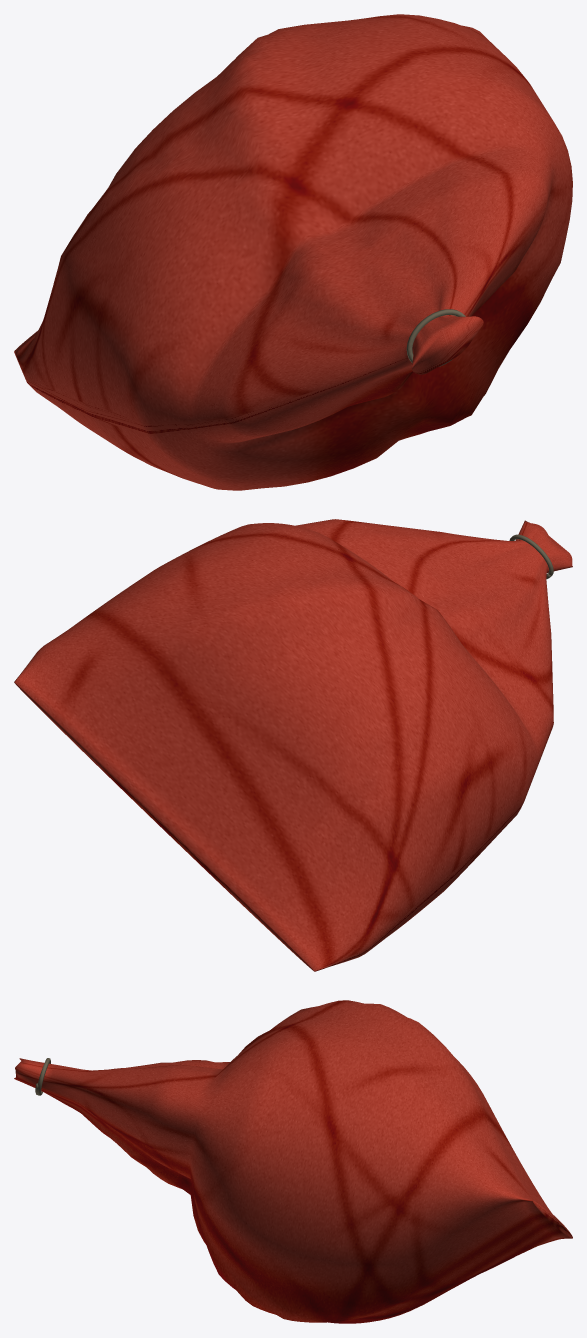
File: peach_01_019.glb
3 views of the same model, one above another, from view 1: azimuth 30°, elevation 25°; view 2: azimuth 150°, elevation 25°; view 3: azimuth 270°, elevation 25° (orthographic). The views are drawn at different scales.
Parts seen in each view (by area): view 1: export_Tree01/shoot0_8_1/bag; view 2: export_Tree01/shoot0_8_1/bag; view 3: export_Tree01/shoot0_8_1/bag.
Part boxes in pixels (x1,y1,x2,y2): export_Tree01/shoot0_8_1/bag: [14, 14, 572, 490]; export_Tree01/shoot0_8_1/bag: [14, 519, 572, 971]; export_Tree01/shoot0_8_1/bag: [14, 1000, 572, 1323].
Bounding box in the file's own units: 0.1168 × 0.095 × 0.154.
4 materials, 1 textured.
